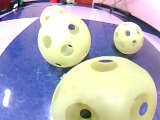Ball: (52, 58, 156, 120), (38, 15, 90, 67), (113, 21, 144, 54)
